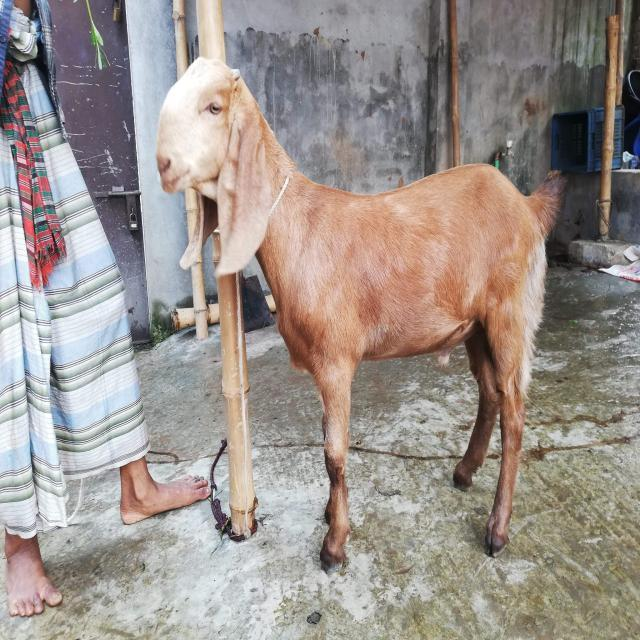Goat: (155, 55, 567, 575)
